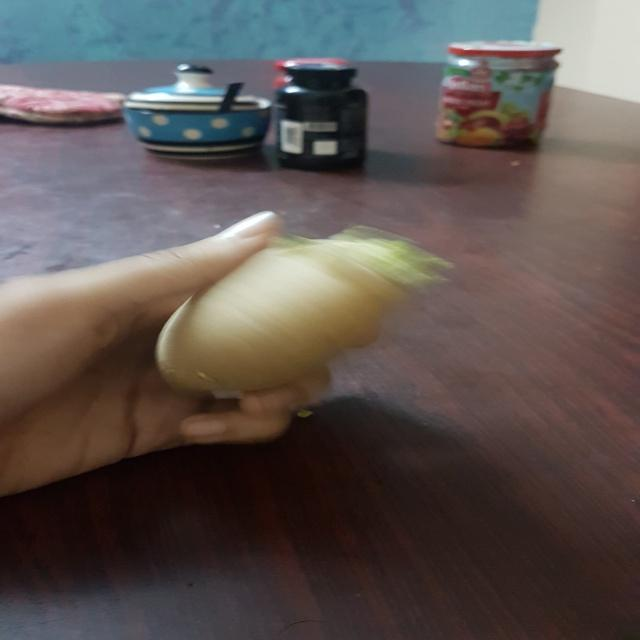potato: (158, 201, 459, 407)
